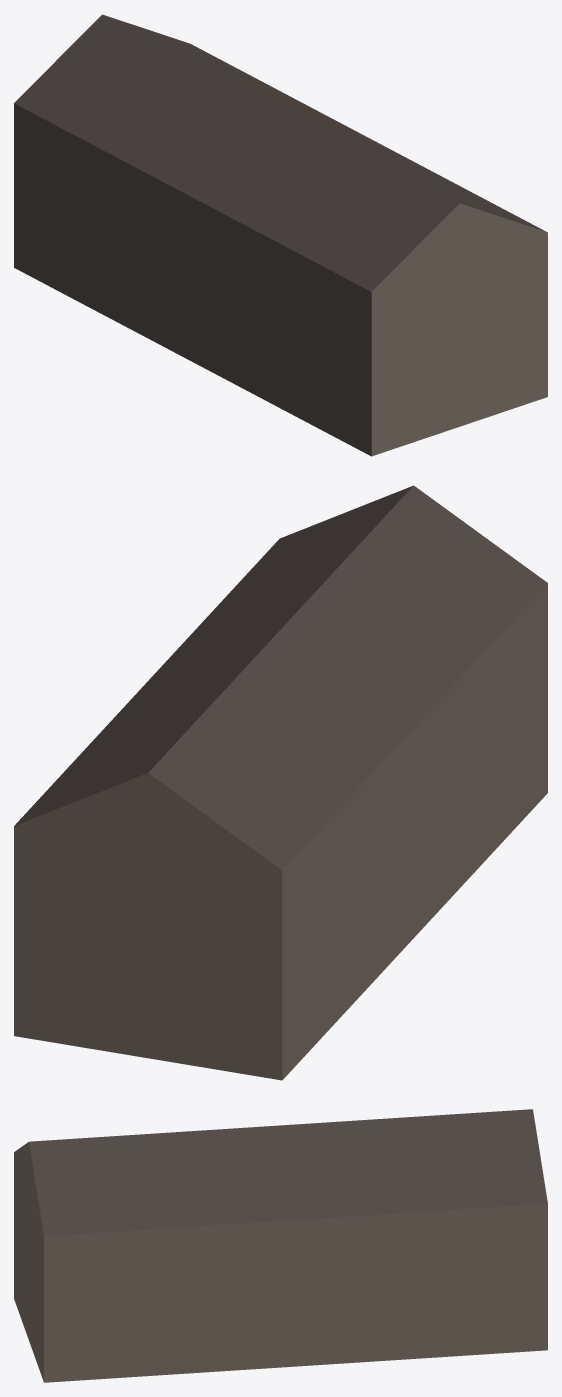
The picture shows the model from 3 angles, top to bottom: view 1: azimuth 30°, elevation 25°; view 2: azimuth 150°, elevation 25°; view 3: azimuth 270°, elevation 25°; orthographic projection. The views are drawn at different scales.
Parts seen in each view (by area): view 1: HP-w1200766553; view 2: HP-w1200766553; view 3: HP-w1200766553.
Boxes of the visible parts, x1=… form: HP-w1200766553: x1=14, y1=14, x2=547, y2=456; HP-w1200766553: x1=14, y1=485, x2=547, y2=1080; HP-w1200766553: x1=14, y1=1109, x2=547, y2=1382.
Size of the model in its own units: 15.35 by 12.23 by 29.73.
